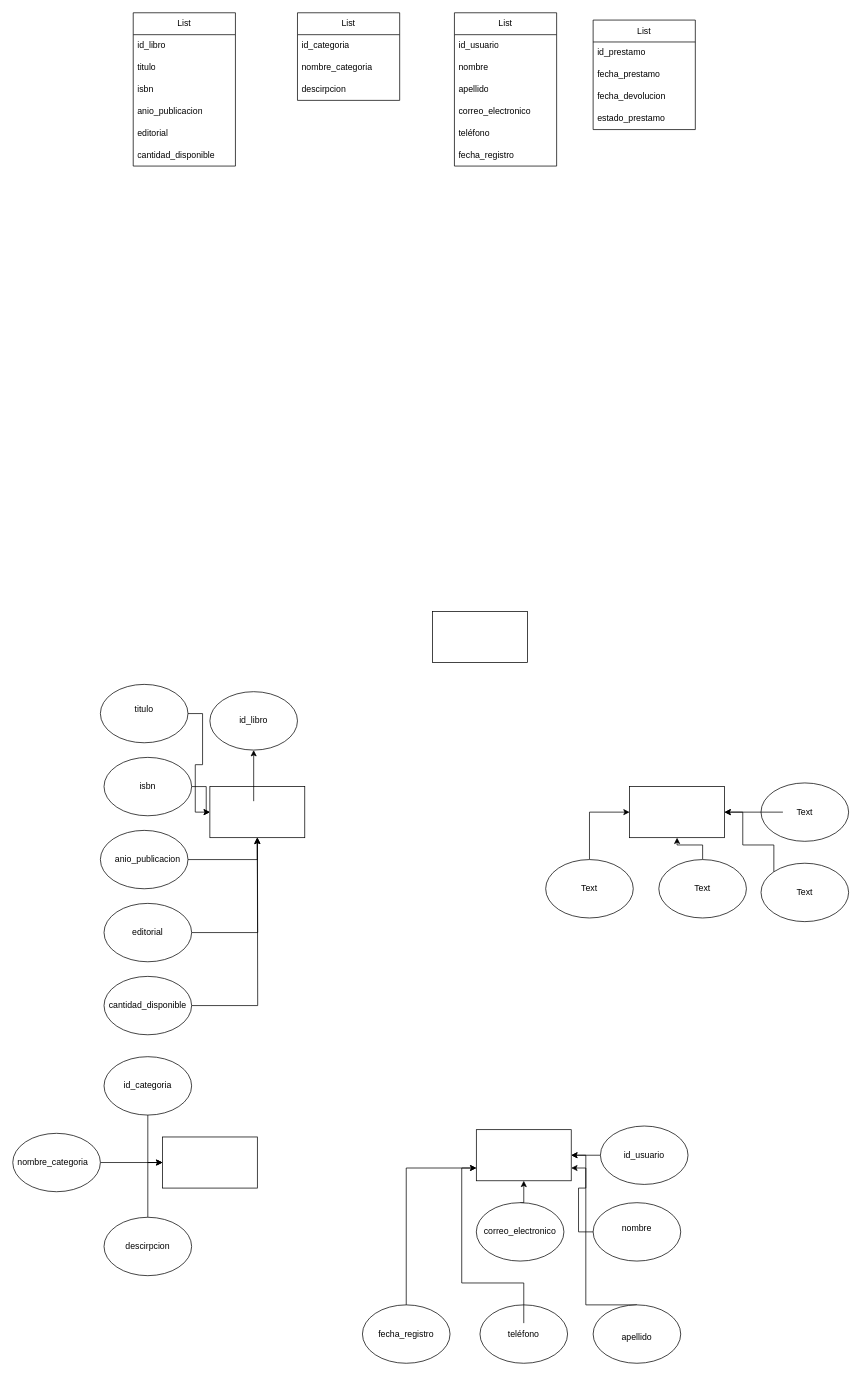
Image size: 861x1376. Some labels were removed from this diagram. Each missing label, with the centre of its shape:
"AUTOR" goes at pixel 479 636.
"CATEGORIA" goes at pixel 209 1162.
"LIBRO" goes at pixel 257 812.
"PRESTAMO" goes at pixel 523 1155.
"USUARIO" goes at pixel 677 812.
